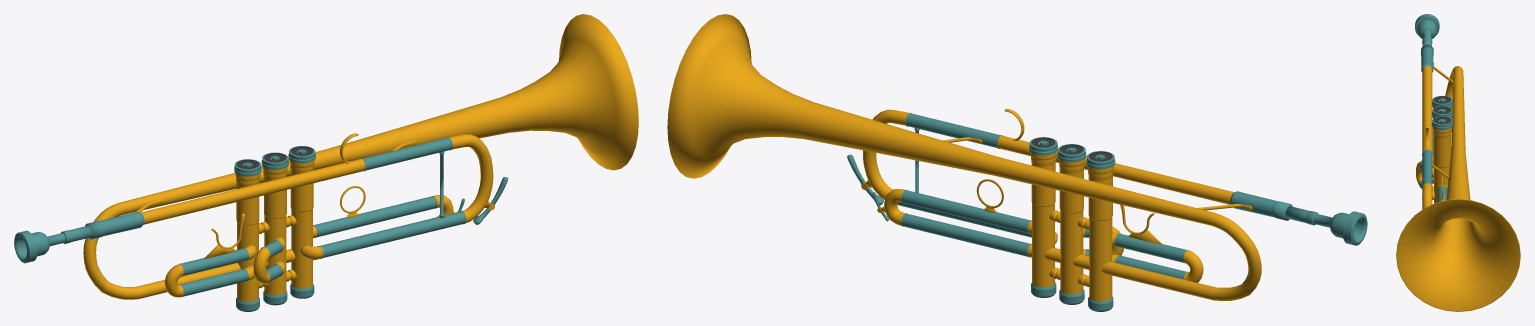
Rendered from trumpetsanspiston02.glb.
3 renders of one model, left to right at view 1: azimuth 30°, elevation 25°; view 2: azimuth 150°, elevation 25°; view 3: azimuth 270°, elevation 25°, orthographic. The views are drawn at different scales.
Visible parts, largest first — view 1: Cylinder, Cylinder.001, Cylinder.005, Cylinder.006, Cylinder.014, Cylinder.003, Cylinder.034, Cylinder.002, Cylinder.013, Cylinder.004, Cylinder.015; view 2: Cylinder, Cylinder.001, Cylinder.006, Cylinder.005, Cylinder.014, Cylinder.034, Cylinder.002, Cylinder.004, Cylinder.013; view 3: Cylinder, Cylinder.014, Cylinder.002, Cylinder.001, Cylinder.004, Cylinder.034, Cylinder.015, Cylinder.003, Cylinder.032, Cylinder.037, Cylinder.006.
Boxes of the visible parts, bbox=[...] form: Cylinder: bbox=[83, 14, 638, 299]; Cylinder.001: bbox=[236, 163, 313, 301]; Cylinder.005: bbox=[164, 245, 256, 297]; Cylinder.006: bbox=[313, 195, 453, 260]; Cylinder.014: bbox=[236, 170, 313, 224]; Cylinder.003: bbox=[253, 237, 285, 283]; Cylinder.034: bbox=[85, 211, 142, 239]; Cylinder.002: bbox=[19, 230, 65, 262]; Cylinder.013: bbox=[236, 287, 314, 310]; Cylinder.004: bbox=[237, 147, 313, 169]; Cylinder.015: bbox=[234, 153, 288, 176]; Cylinder: bbox=[667, 14, 1261, 300]; Cylinder.001: bbox=[1031, 155, 1113, 301]; Cylinder.006: bbox=[884, 189, 1032, 257]; Cylinder.005: bbox=[1112, 232, 1203, 282]; Cylinder.014: bbox=[1031, 163, 1112, 220]; Cylinder.034: bbox=[1231, 191, 1292, 220]; Cylinder.002: bbox=[1313, 211, 1361, 245]; Cylinder.004: bbox=[1032, 138, 1112, 161]; Cylinder.013: bbox=[1031, 286, 1113, 310]; Cylinder: bbox=[1396, 66, 1520, 311]; Cylinder.014: bbox=[1433, 135, 1451, 167]; Cylinder.002: bbox=[1415, 14, 1439, 38]; Cylinder.001: bbox=[1433, 130, 1451, 203]; Cylinder.004: bbox=[1433, 97, 1450, 124]; Cylinder.034: bbox=[1421, 44, 1433, 67]; Cylinder.015: bbox=[1431, 96, 1453, 117]; Cylinder.003: bbox=[1416, 160, 1433, 189]; Cylinder.032: bbox=[1431, 96, 1452, 117]; Cylinder.037: bbox=[1415, 17, 1439, 35]; Cylinder.006: bbox=[1437, 184, 1447, 202].
Size of the model in its own units: 8.93 by 2.74 by 2.07.
